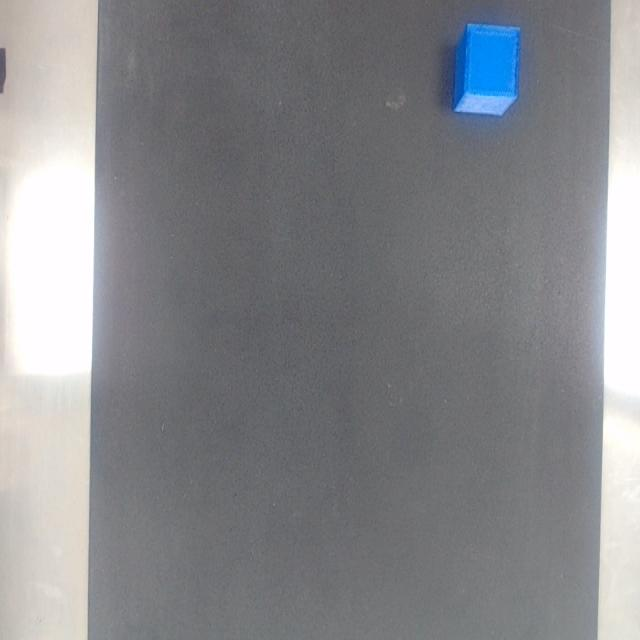Azul: (452, 24, 520, 116)
